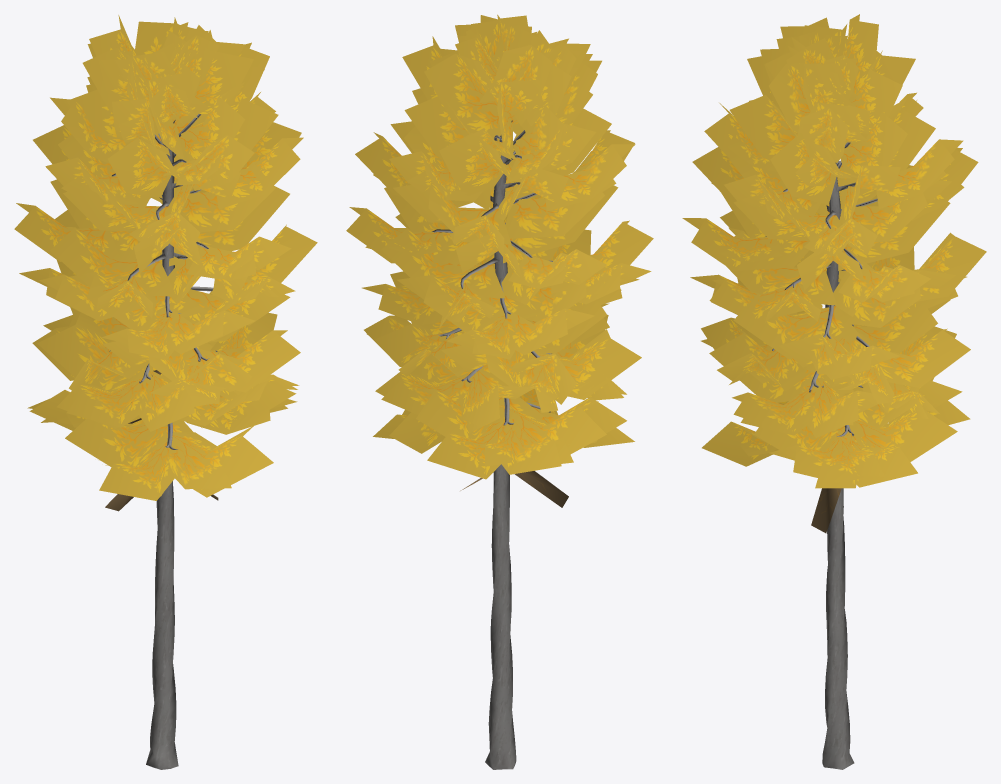
The model's file is TreeVariation_LOD3.fbx.
3 renders of one model, left to right at view 1: azimuth 30°, elevation 25°; view 2: azimuth 150°, elevation 25°; view 3: azimuth 270°, elevation 25°, orthographic.
Visible parts, largest first — view 1: leaves_1, bark_base_0; view 2: leaves_1, bark_base_0, branch_2; view 3: leaves_1, bark_base_0, branch_2.
Boxes of the visible parts, x1,y1,x2,y2 form: leaves_1: [14, 15, 317, 500]; bark_base_0: [109, 114, 218, 769]; leaves_1: [346, 14, 653, 479]; bark_base_0: [432, 120, 552, 769]; branch_2: [460, 471, 568, 507]; leaves_1: [682, 14, 986, 488]; bark_base_0: [765, 142, 877, 769]; branch_2: [811, 488, 841, 533].
Bounding box in the file's own units: 507 × 1358 × 516.
